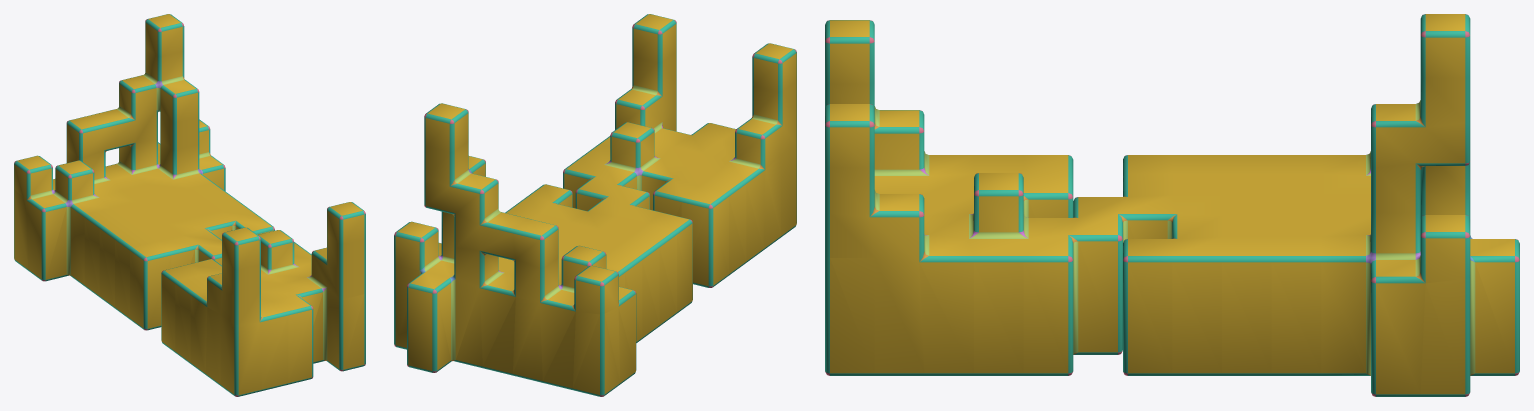
Rendered from level.glb.
3 renders of one model, left to right at view 1: azimuth 30°, elevation 25°; view 2: azimuth 150°, elevation 25°; view 3: azimuth 270°, elevation 25°, orthographic. The views are drawn at different scales.
Parts seen in each view (by area): view 1: VoxelLevel; view 2: VoxelLevel; view 3: VoxelLevel.
Part boxes in pixels (x1=…): VoxelLevel: x1=14, y1=14, x2=365, y2=396; VoxelLevel: x1=394, y1=14, x2=796, y2=396; VoxelLevel: x1=825, y1=14, x2=1519, y2=396.
Bounding box in the file's own units: 14 × 15.34 × 28.
